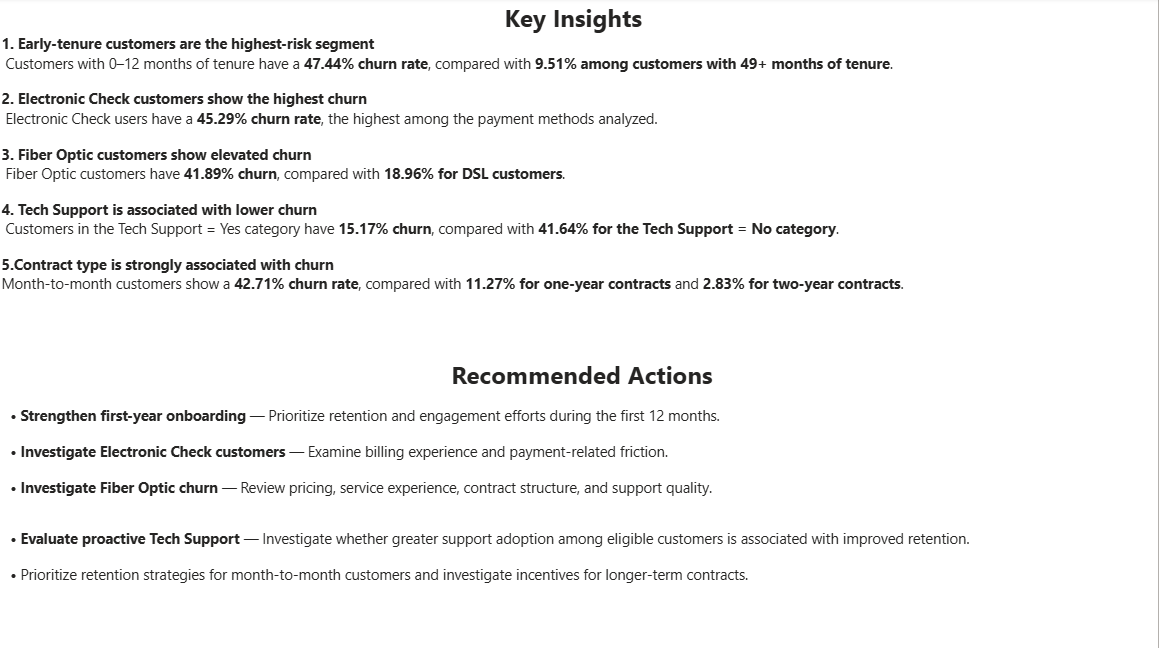

This screenshot's page, from the dashboard's own definition file:
{"tool":"powerbi","page":{"name":"Key insights and recommendations","canvas":[1280,720],"ordinal":1},"visuals":[{"type":"textbox","box":[0,0,1270.6,392.8],"z":0},{"type":"textbox","box":[9.6,392.8,1270.6,326.6],"z":1}]}

Visuals, with their boxes in screenshot pixels (x1, y1, x2, y2), scaled from the page's 1280x720 canvas onto the 1159x648 screenshot:
textbox: 0, 0, 1150, 354
textbox: 9, 354, 1158, 647
